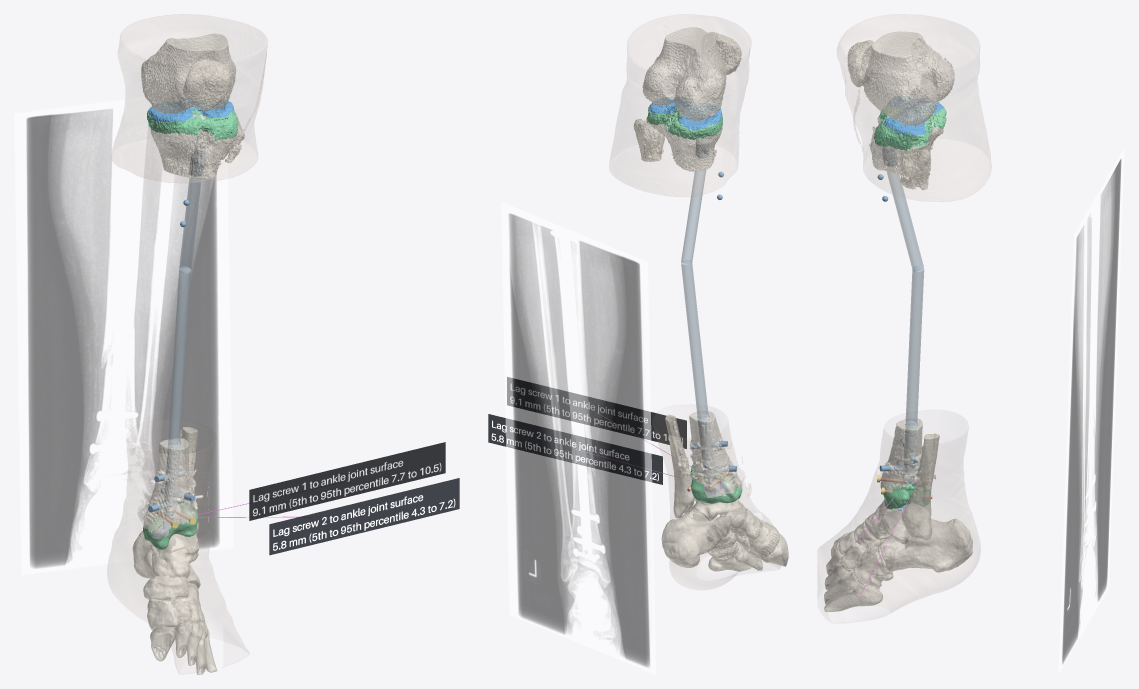
3 renders of one model, left to right at view 1: azimuth 30°, elevation 25°; view 2: azimuth 150°, elevation 25°; view 3: azimuth 270°, elevation 25°, orthographic. The views are drawn at different scales.
Visible parts, largest first — view 1: radiograph, skin, implant_8, tibia, implant_16, tarsal, femur, nail_modelled, metatarsal, patella, capsule_band_knee, nail (+3 smaller); view 2: radiograph, skin, femur, tarsal, implant_17, implant_9, tibia, nail_modelled, fibula, metatarsal, articular_surface_knee, capsule_band_knee (+3 smaller); view 3: radiograph, skin, tarsal, femur, tibia, fibula, nail_modelled, metatarsal, capsule_band_knee, articular_surface_knee, nail, patella (+1 smaller).
Part boxes in pixels (left/top/right/bottom): radiograph: left=14, top=97, right=233, bottom=575; skin: left=107, top=14, right=267, bottom=672; implant_8: left=249, top=442, right=445, bottom=520; tibia: left=143, top=109, right=235, bottom=549; implant_16: left=269, top=478, right=459, bottom=555; tarsal: left=132, top=526, right=204, bottom=632; femur: left=141, top=33, right=236, bottom=113; nail_modelled: left=168, top=178, right=201, bottom=445; metatarsal: left=150, top=619, right=217, bottom=674; patella: left=183, top=58, right=232, bottom=111; capsule_band_knee: left=147, top=107, right=238, bottom=140; nail: left=164, top=145, right=205, bottom=519; radiograph: left=501, top=202, right=655, bottom=674; skin: left=609, top=14, right=780, bottom=589; femur: left=642, top=27, right=726, bottom=120; tarsal: left=661, top=486, right=779, bottom=567; implant_17: left=488, top=414, right=662, bottom=484; implant_9: left=507, top=377, right=686, bottom=448; tibia: left=646, top=107, right=742, bottom=502; nail_modelled: left=681, top=169, right=708, bottom=418; fibula: left=633, top=119, right=694, bottom=518; metatarsal: left=708, top=528, right=788, bottom=571; articular_surface_knee: left=648, top=97, right=721, bottom=130; capsule_band_knee: left=646, top=102, right=722, bottom=139; radiograph: left=1058, top=148, right=1124, bottom=674; skin: left=818, top=14, right=991, bottom=612; tarsal: left=833, top=499, right=972, bottom=587; femur: left=862, top=31, right=954, bottom=126; tibia: left=869, top=117, right=944, bottom=509; fibula: left=900, top=148, right=939, bottom=539; nail_modelled: left=886, top=171, right=924, bottom=426; metatarsal: left=824, top=543, right=882, bottom=611; capsule_band_knee: left=874, top=104, right=946, bottom=150; articular_surface_knee: left=884, top=96, right=943, bottom=135; nail: left=882, top=146, right=917, bottom=486; patella: left=847, top=40, right=874, bottom=87.
Bounding box in the file's own units: 0.2989 × 0.5389 × 0.2584.
15 materials, 3 textured.
